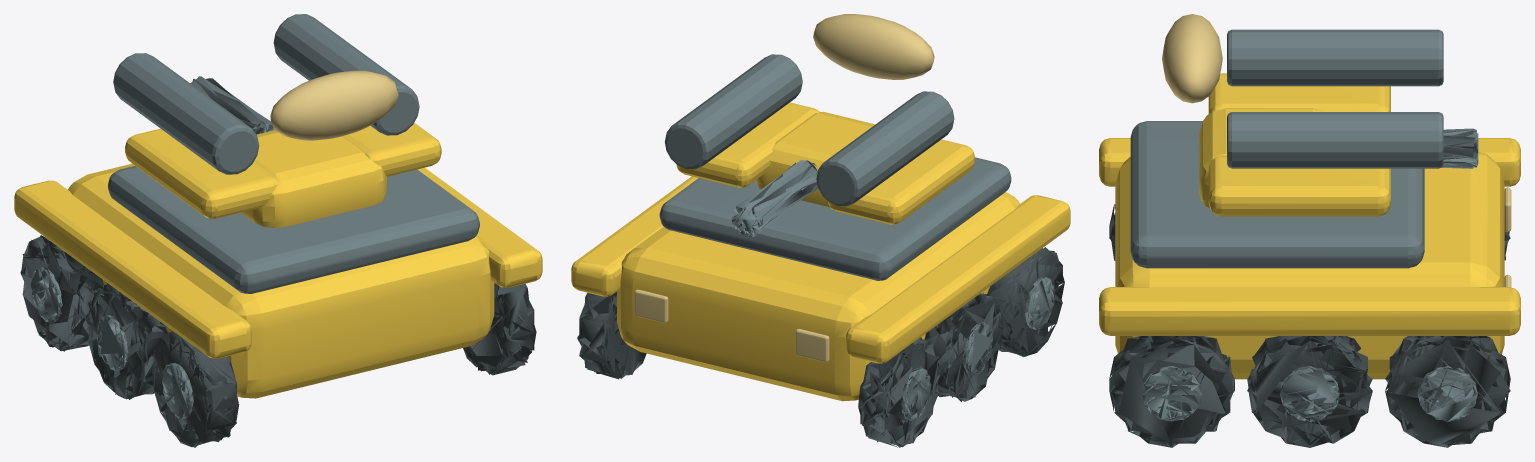
Rendered from vehicle_storm.glb.
3 views of the same model, side by side, from view 1: azimuth 30°, elevation 25°; view 2: azimuth 150°, elevation 25°; view 3: azimuth 270°, elevation 25° (orthographic). The views are drawn at different scales.
Parts seen in each view (by area): view 1: Surface_Uniform, Surface_Gunmetal, Surface_Uniform.001, Surface_Gunmetal.001, Surface_WorldBrass.001, Wheel, Wheel.002, Wheel.001, Wheel.003, Cannon, Hub.001, Hub.002 (+1 smaller); view 2: Surface_Uniform, Surface_Gunmetal, Surface_Gunmetal.001, Surface_Uniform.001, Surface_WorldBrass.001, Wheel.002, Wheel, Wheel.001, Wheel.005, Cannon, Surface_WorldBrass, Hub.001 (+2 smaller); view 3: Surface_Uniform, Surface_Gunmetal.001, Surface_Gunmetal, Surface_Uniform.001, Wheel.005, Wheel.004, Wheel.003, Surface_WorldBrass.001, Hub.003, Hub.004, Hub.005, Cannon (+1 smaller).
Boxes of the visible parts, x1,y1,x2,y2 form: Surface_Uniform: (14, 163, 542, 398); Surface_Gunmetal: (108, 166, 479, 293); Surface_Uniform.001: (125, 122, 441, 227); Surface_Gunmetal.001: (113, 14, 419, 174); Surface_WorldBrass.001: (270, 70, 398, 140); Wheel: (151, 331, 239, 447); Wheel.002: (20, 235, 103, 351); Wheel.001: (86, 283, 168, 399); Wheel.003: (463, 282, 536, 375); Cannon: (190, 76, 274, 134); Hub.001: (96, 314, 128, 371); Hub.002: (30, 266, 62, 323); Surface_Uniform: (571, 176, 1070, 401); Surface_Gunmetal: (659, 157, 1011, 280); Surface_Gunmetal.001: (665, 54, 954, 206); Surface_Uniform.001: (676, 102, 974, 224); Surface_WorldBrass.001: (813, 14, 934, 79); Wheel.002: (858, 337, 940, 447); Wheel: (986, 247, 1064, 356); Wheel.001: (924, 292, 1002, 401); Wheel.005: (577, 291, 646, 379); Cannon: (731, 160, 818, 236); Surface_WorldBrass: (634, 289, 829, 362); Hub.001: (963, 322, 993, 375); Surface_Uniform: (1099, 138, 1520, 379); Surface_Gunmetal.001: (1227, 29, 1443, 168); Surface_Gunmetal: (1130, 121, 1424, 268); Surface_Uniform.001: (1199, 73, 1390, 216); Wheel.005: (1385, 336, 1510, 447); Wheel.004: (1247, 336, 1372, 447); Wheel.003: (1109, 336, 1234, 447); Surface_WorldBrass.001: (1162, 14, 1222, 103); Hub.003: (1142, 366, 1202, 421); Hub.004: (1280, 366, 1339, 421); Hub.005: (1417, 366, 1477, 421); Cannon: (1441, 128, 1478, 168).
Bounding box in the file's own units: 2.02 × 1.84 × 2.08.
